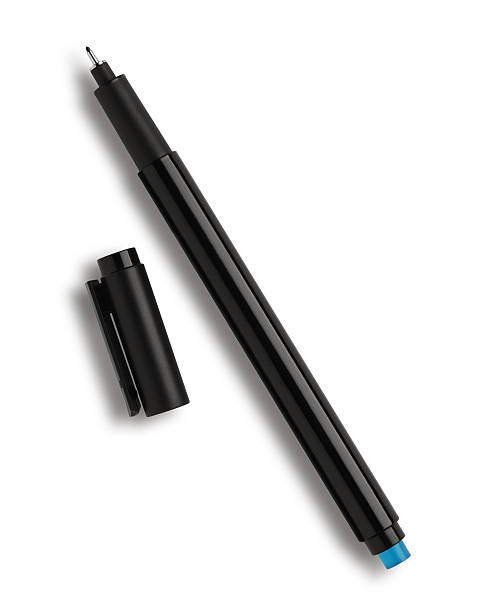pen: (69, 39, 417, 578)
